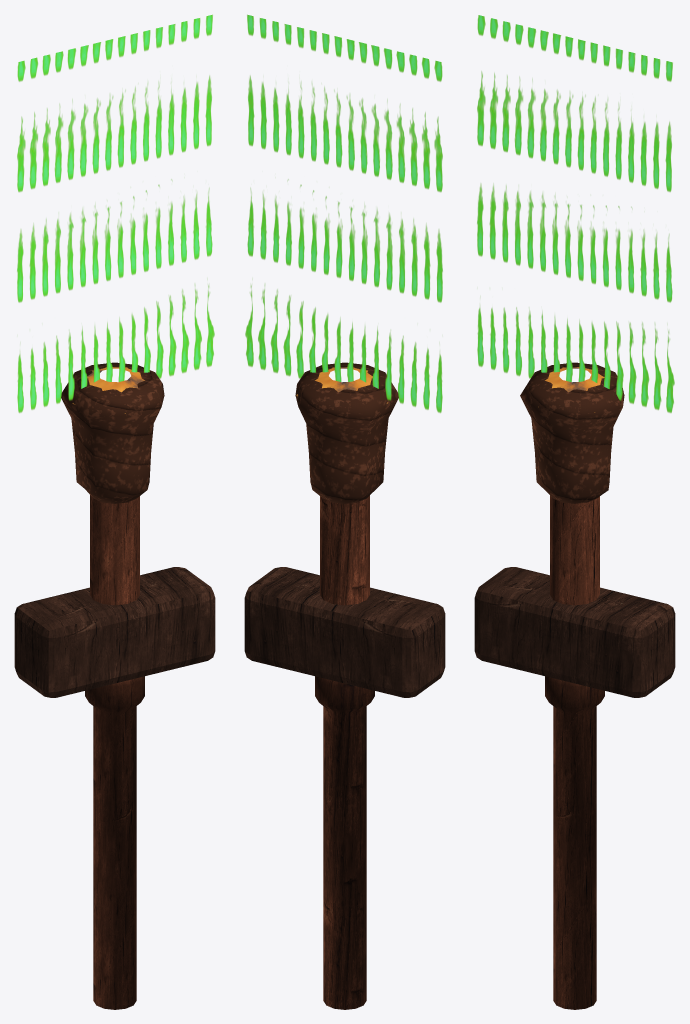
File: mm7_deco_torch01_green_free.glb
3 renders of one model, left to right at view 1: azimuth 30°, elevation 25°; view 2: azimuth 150°, elevation 25°; view 3: azimuth 330°, elevation 25°, orthographic.
Visible parts, largest first — view 1: Torch01Free; view 2: Torch01Free; view 3: Torch01Free.
Part boxes in pixels (x1=…): Torch01Free: x1=14, y1=14, x2=215, y2=1009; Torch01Free: x1=244, y1=14, x2=445, y2=1009; Torch01Free: x1=474, y1=15, x2=675, y2=1009.
Size of the model in its own units: 0.3427 by 1.57 by 0.1542.
Materials: 5 (5 with a texture image).
